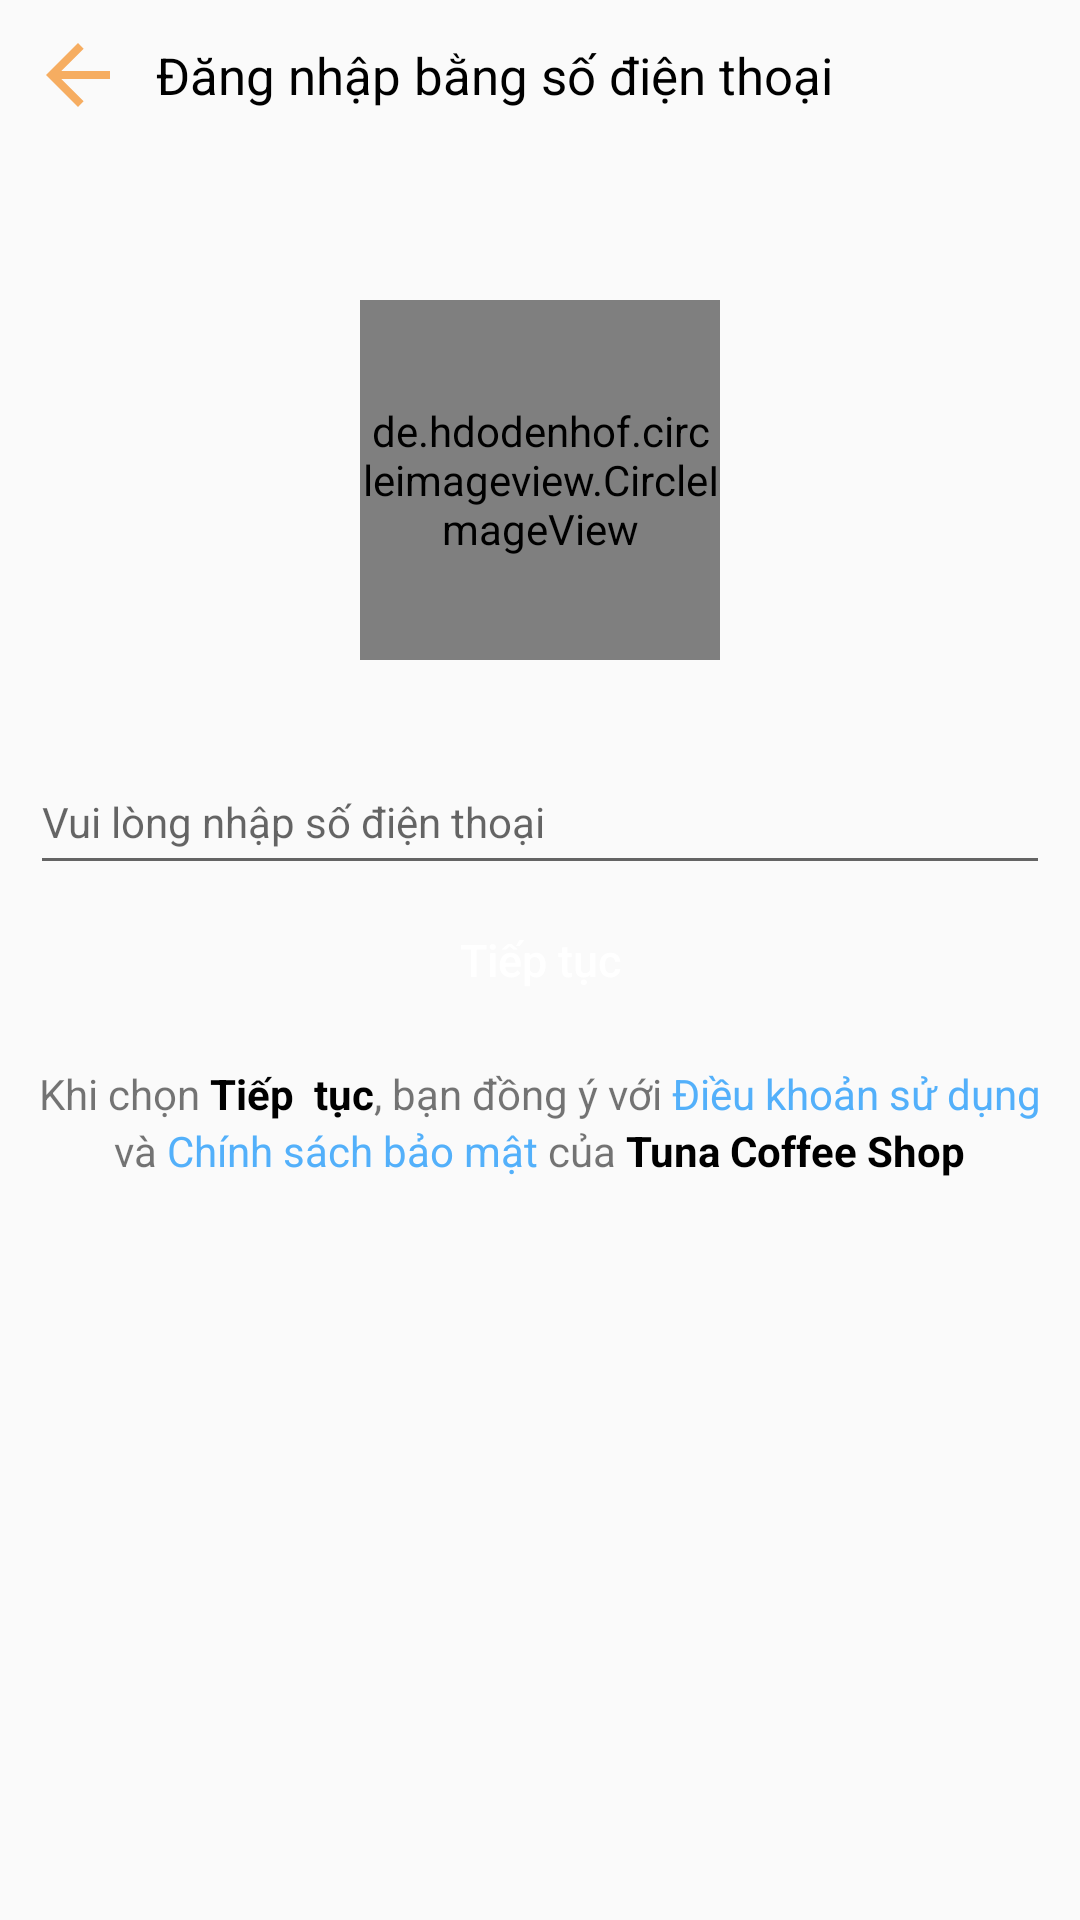

Icons on this 1080w x 1920h Android screen, each with the point to tap as (x,y):
arrow back: (78,75)
